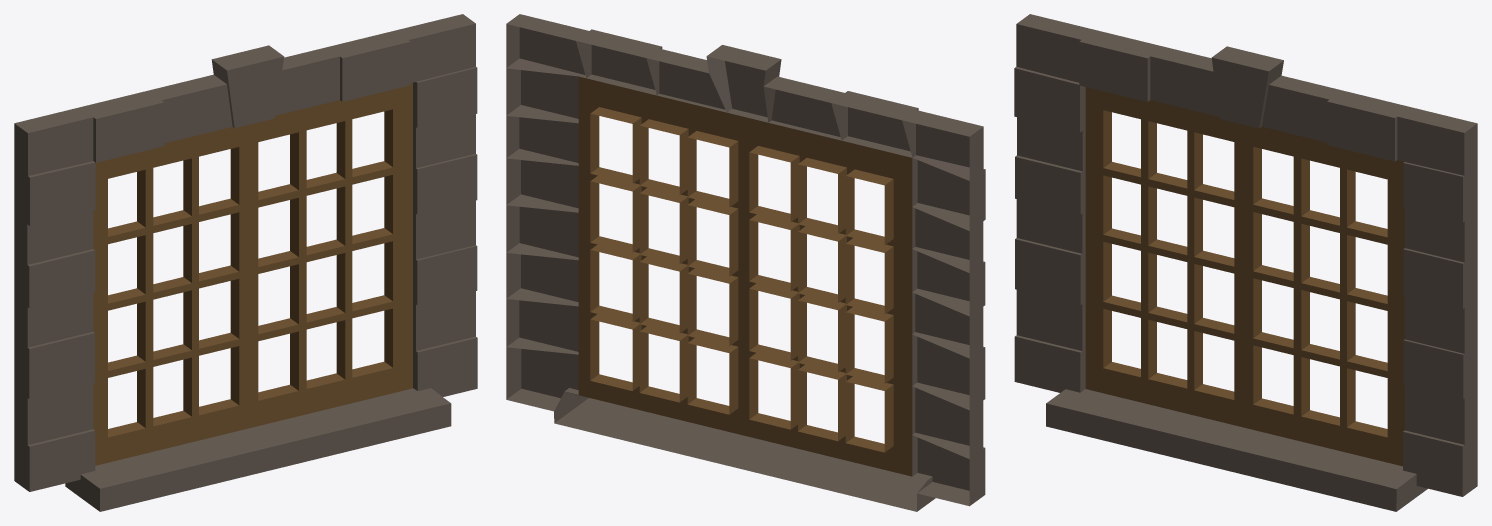
File: 4_Window.fbx
3 renders of one model, left to right at view 1: azimuth 30°, elevation 25°; view 2: azimuth 150°, elevation 25°; view 3: azimuth 330°, elevation 25°, orthographic. The views are drawn at different scales.
Parts seen in each view (by area): view 1: _Window:Mesh; view 2: _Window:Mesh; view 3: _Window:Mesh.
Part boxes in pixels (x1=…): _Window:Mesh: x1=14, y1=14, x2=477, y2=511; _Window:Mesh: x1=506, y1=14, x2=985, y2=511; _Window:Mesh: x1=1014, y1=14, x2=1477, y2=511.
Bounding box in the file's own units: 16.48 × 13.74 × 2.22.
